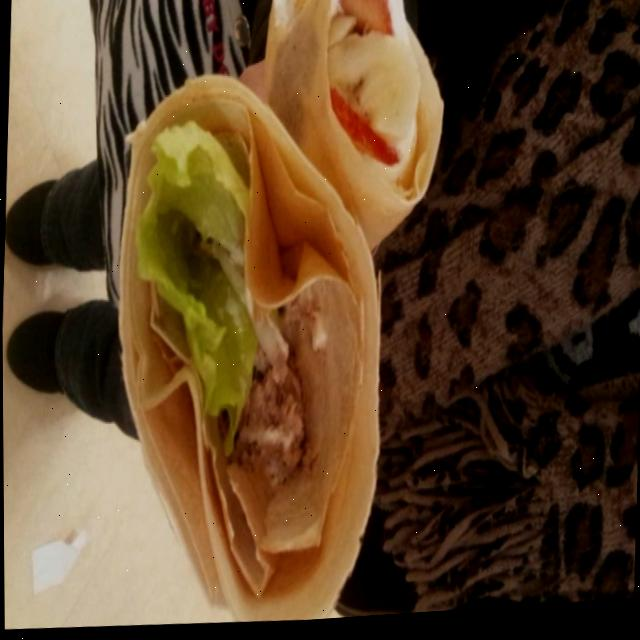蛋糕甜品: (73, 0, 499, 616)
